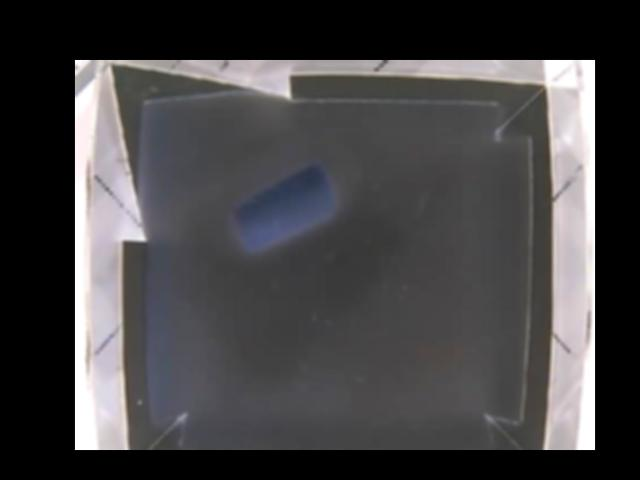Mooli: (230, 165, 332, 253)
